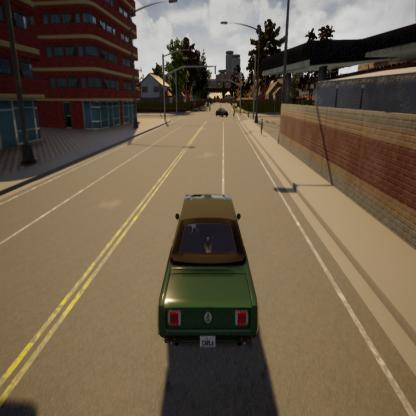Cars: (151, 183, 263, 355), (214, 105, 232, 121)
Pedestrian: (258, 116, 266, 139)
